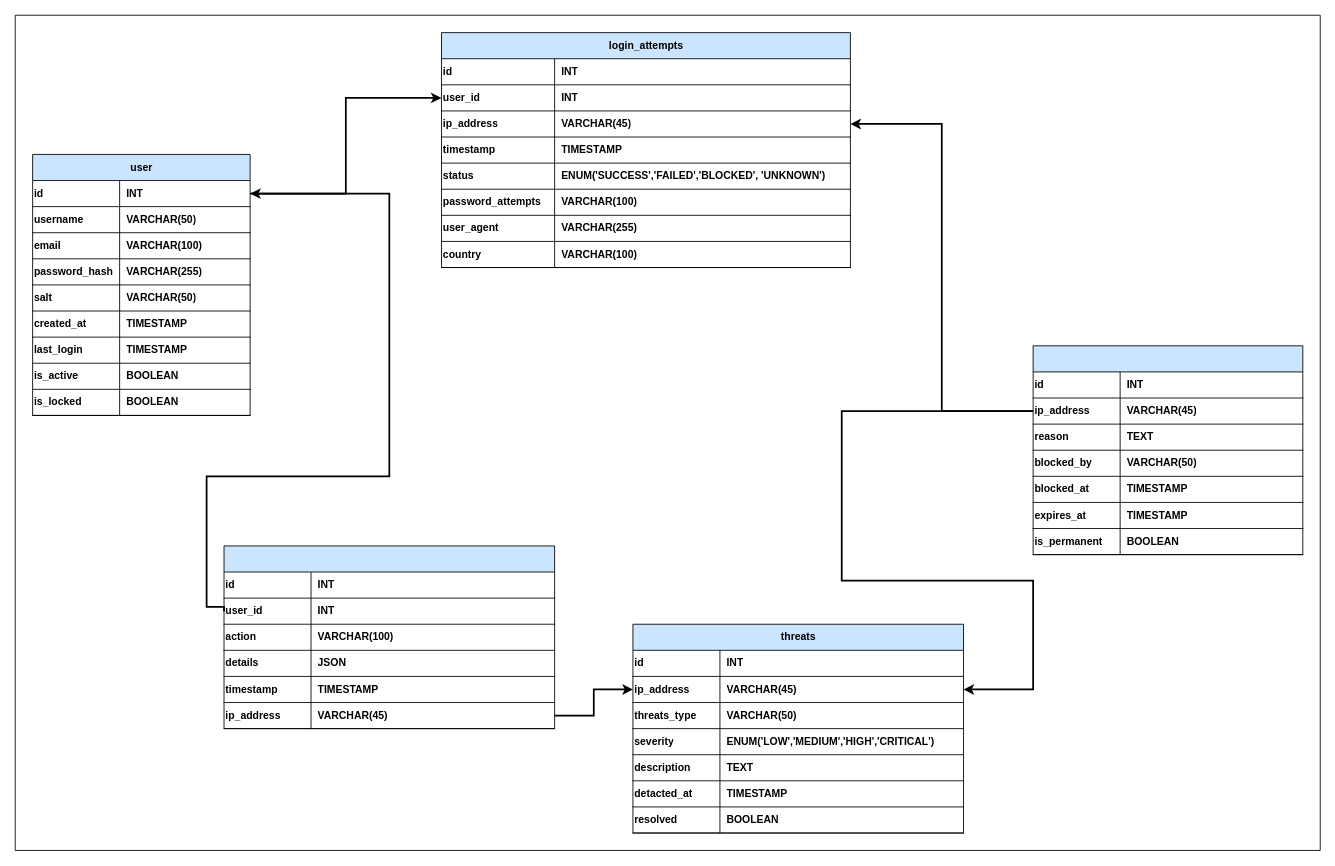
Some shapes in this 1335 by 866 pixel diagram are drawn without their labels. Here are the shapes that lost their labels. From the top down, the box of each, then its label:
(1032, 345, 1303, 555): blocked_ip
(223, 545, 555, 729): audit_logs
